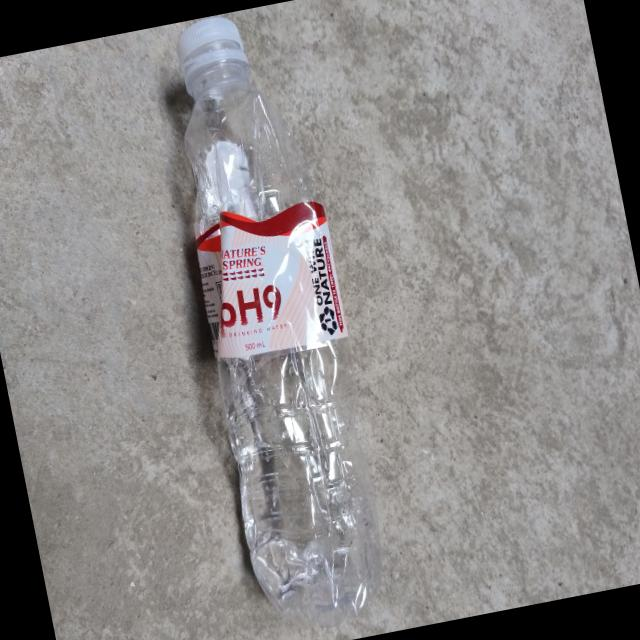Bottle: (177, 14, 381, 621)
